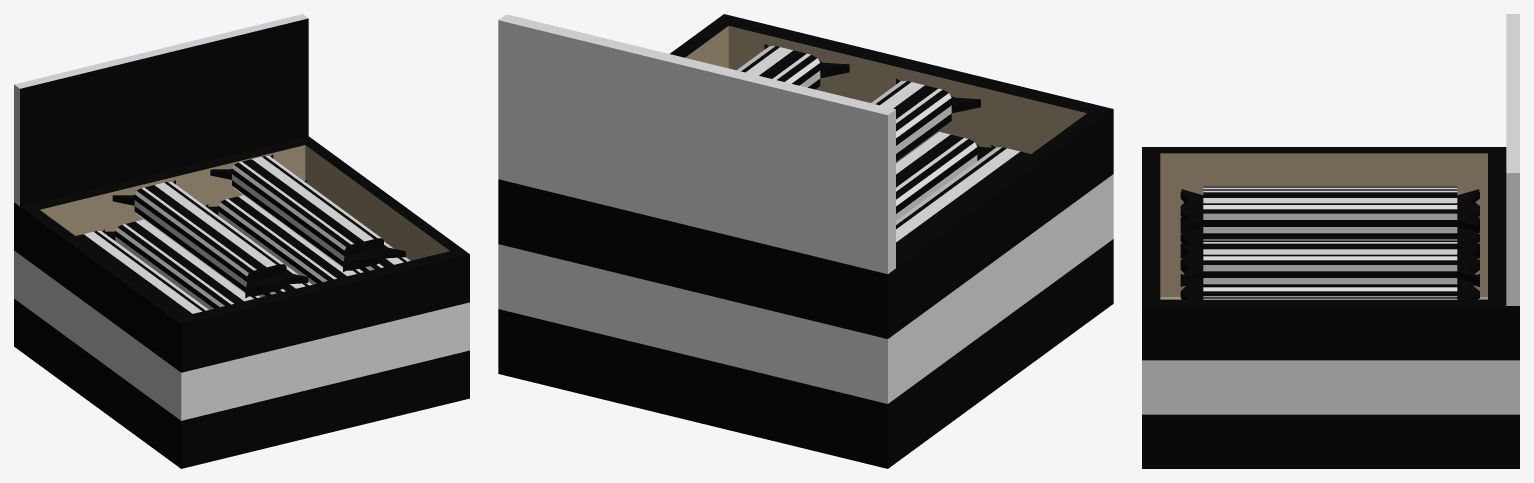
Rendered from Ma_Candies.fbx.
3 renders of one model, left to right at view 1: azimuth 30°, elevation 25°; view 2: azimuth 150°, elevation 25°; view 3: azimuth 270°, elevation 25°, orthographic. The views are drawn at different scales.
Visible parts, largest first — view 1: Ma_Candies; view 2: Ma_Candies; view 3: Ma_Candies.
Part boxes in pixels (x1,y1,x2,y2): Ma_Candies: (14,14,469,468); Ma_Candies: (498,14,1113,468); Ma_Candies: (1142,14,1519,468).
Bounding box in the file's own units: 186 × 186 × 161.
